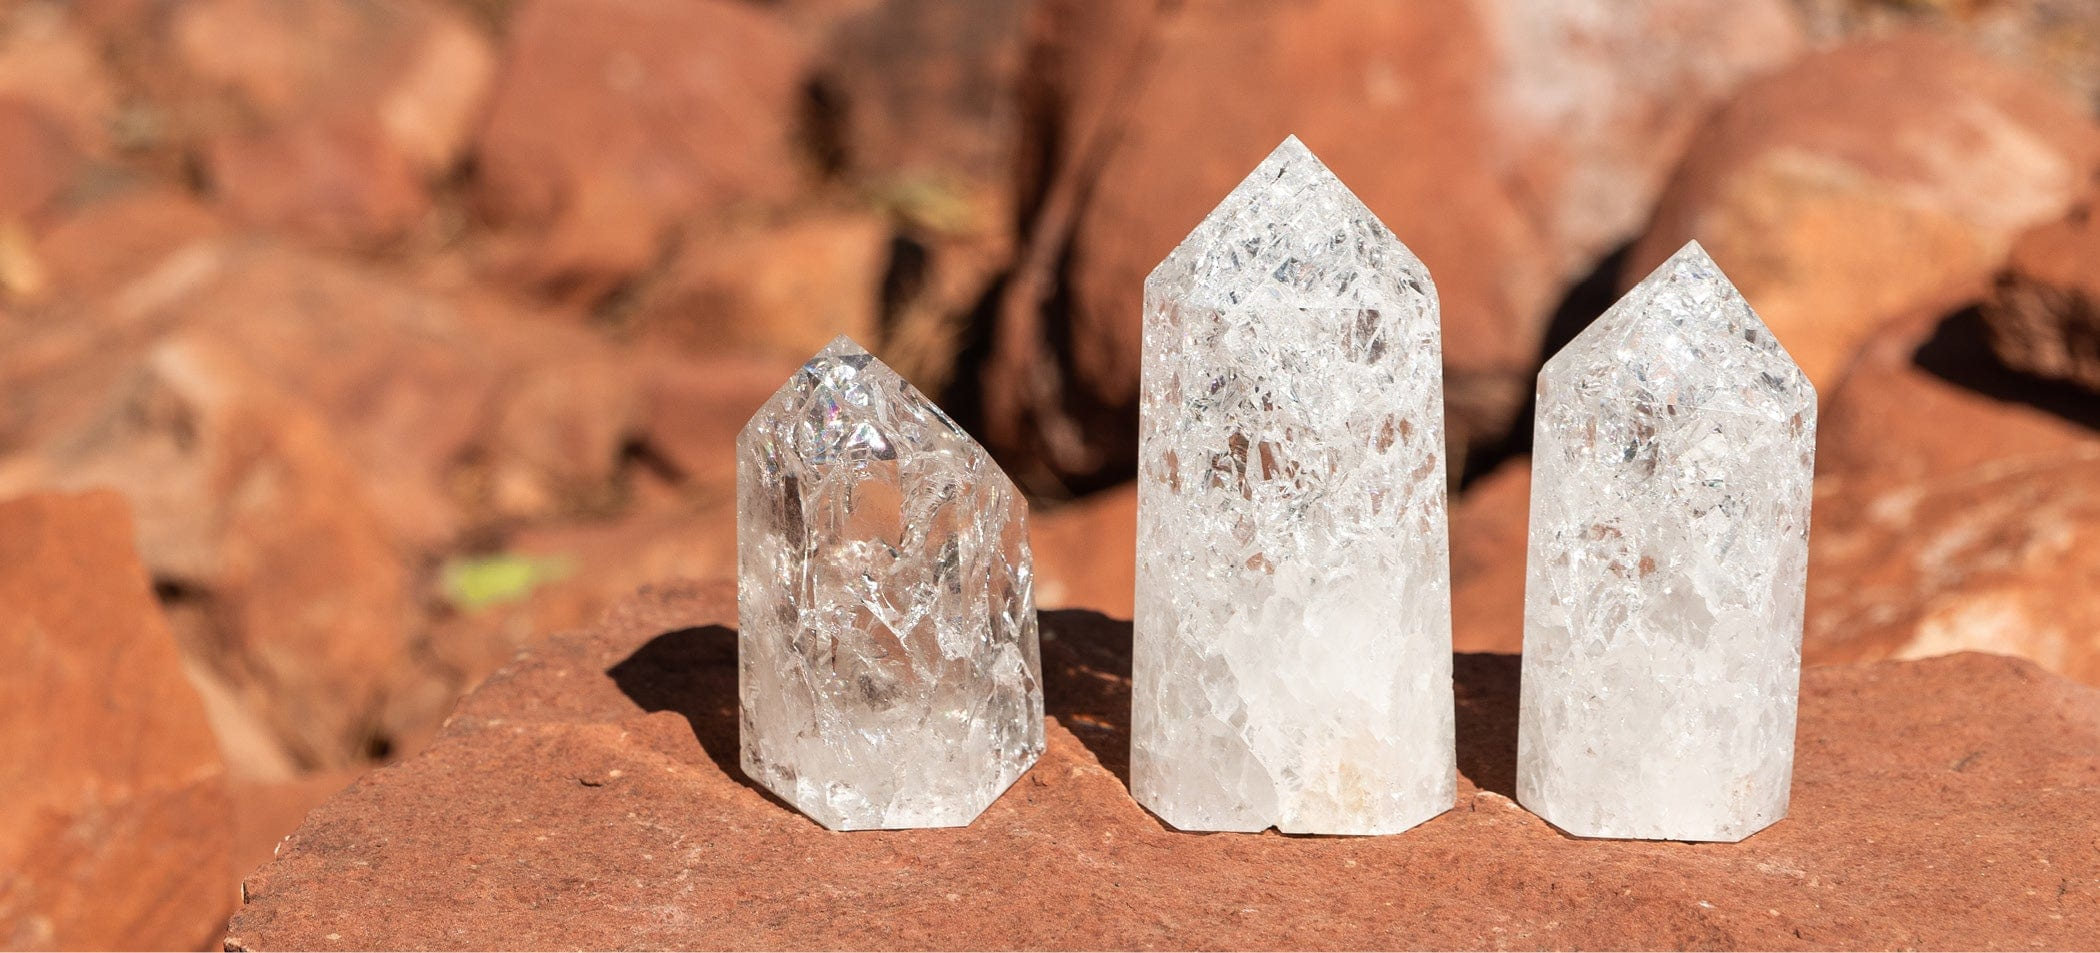Clear_Quartz: (1126, 124, 1462, 833), (1513, 225, 1819, 849), (731, 335, 1049, 838)
